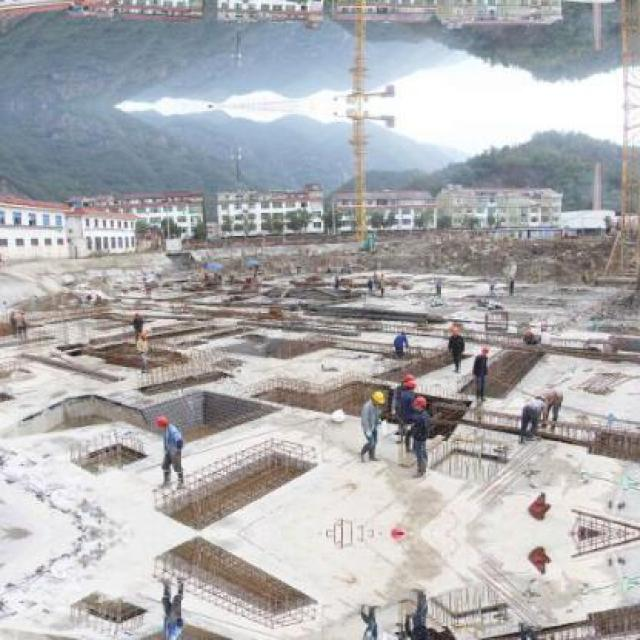helmet: (412, 394, 428, 413), (370, 388, 384, 406), (154, 415, 168, 429), (479, 342, 490, 357), (405, 377, 417, 389), (138, 328, 148, 339), (450, 324, 458, 335)
